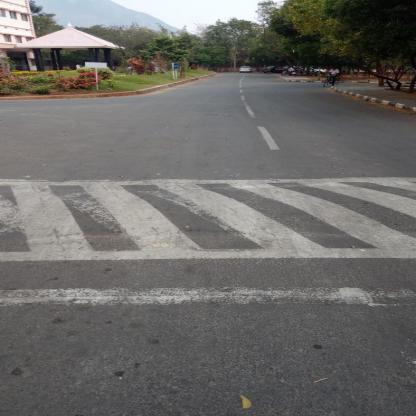speed-bumps: (0, 173, 415, 315)
